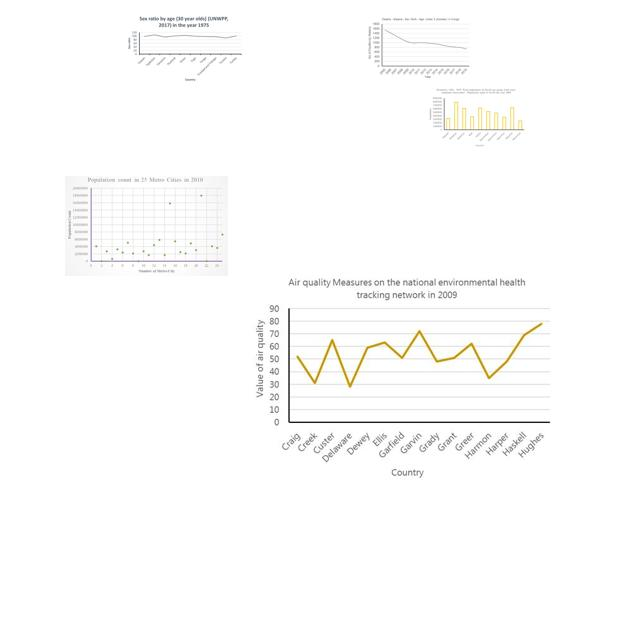Graph: (248, 268, 556, 483), (65, 176, 228, 276), (125, 14, 243, 84), (366, 16, 471, 80), (426, 87, 526, 147)
